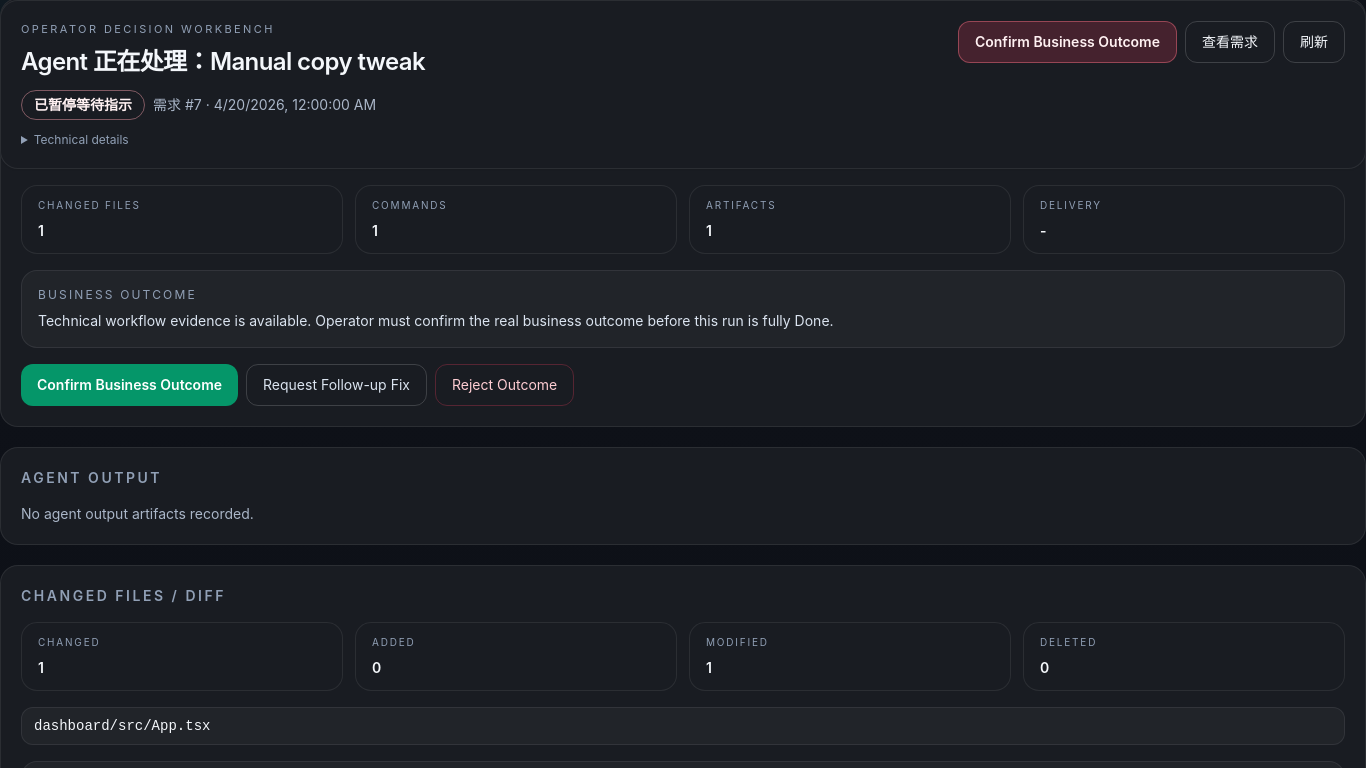
Scenario: WorkflowRunDetailPage Human Override evidence › confirms business outcome from the manual review panel
The width and height of the screenshot is (1366, 768).
(page scrolled)
Click the button "Confirm Business Outcome" below "override by:": click(130, 384) [21, 364, 238, 406]
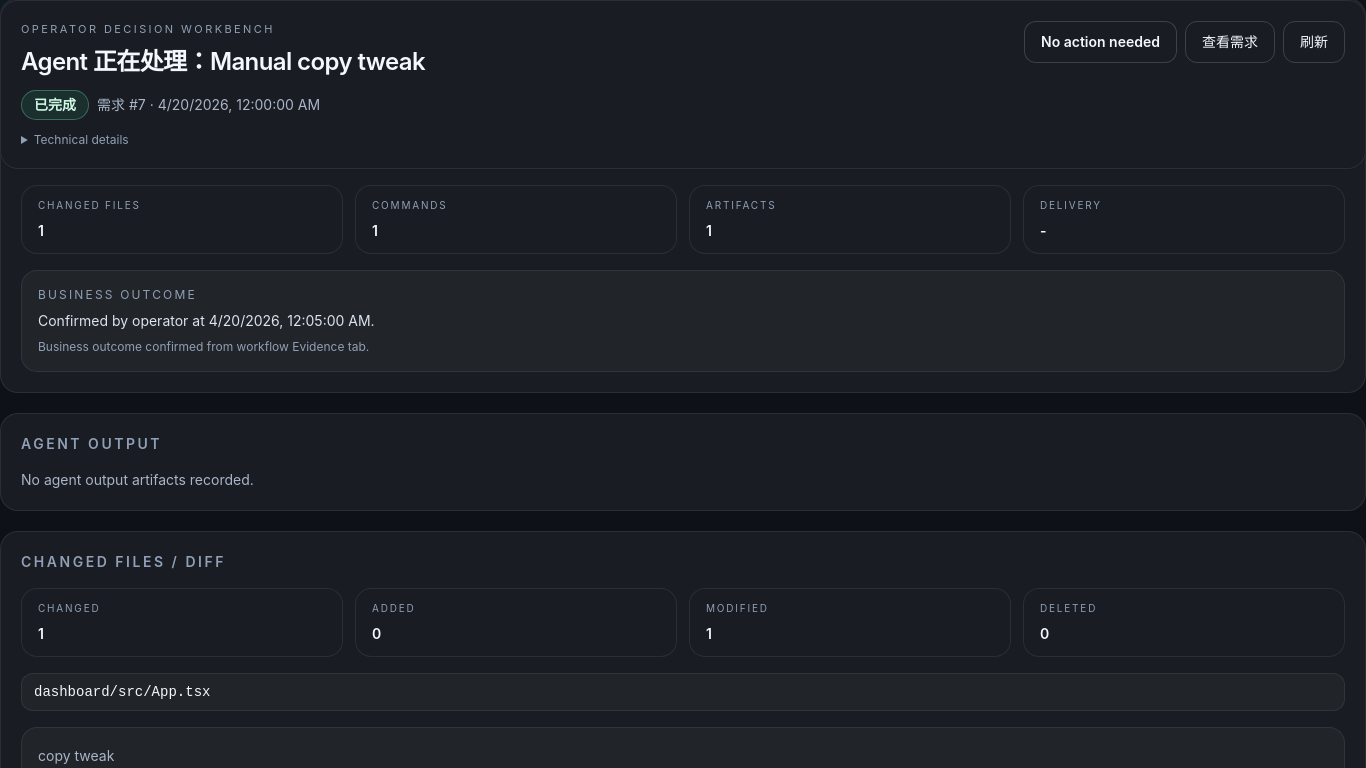
Check: the text "Confirmed by operator at 4/20/2026, 12:05:00 AM." is shown, box [38, 312, 375, 328]
